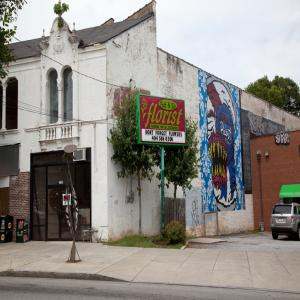Vehicle-registration-plate: (279, 218, 285, 223)
